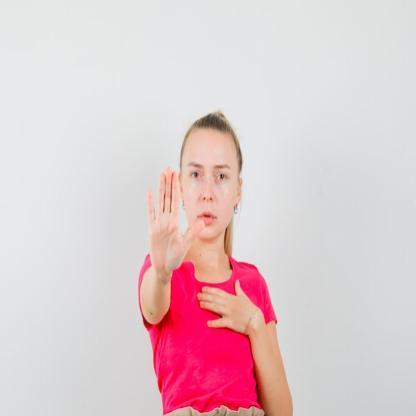stop: (146, 163, 208, 277)
